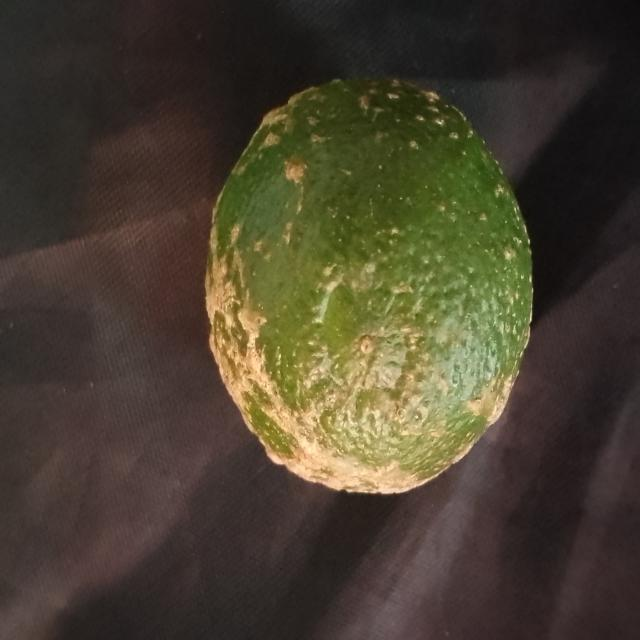scab: (200, 68, 542, 513)
